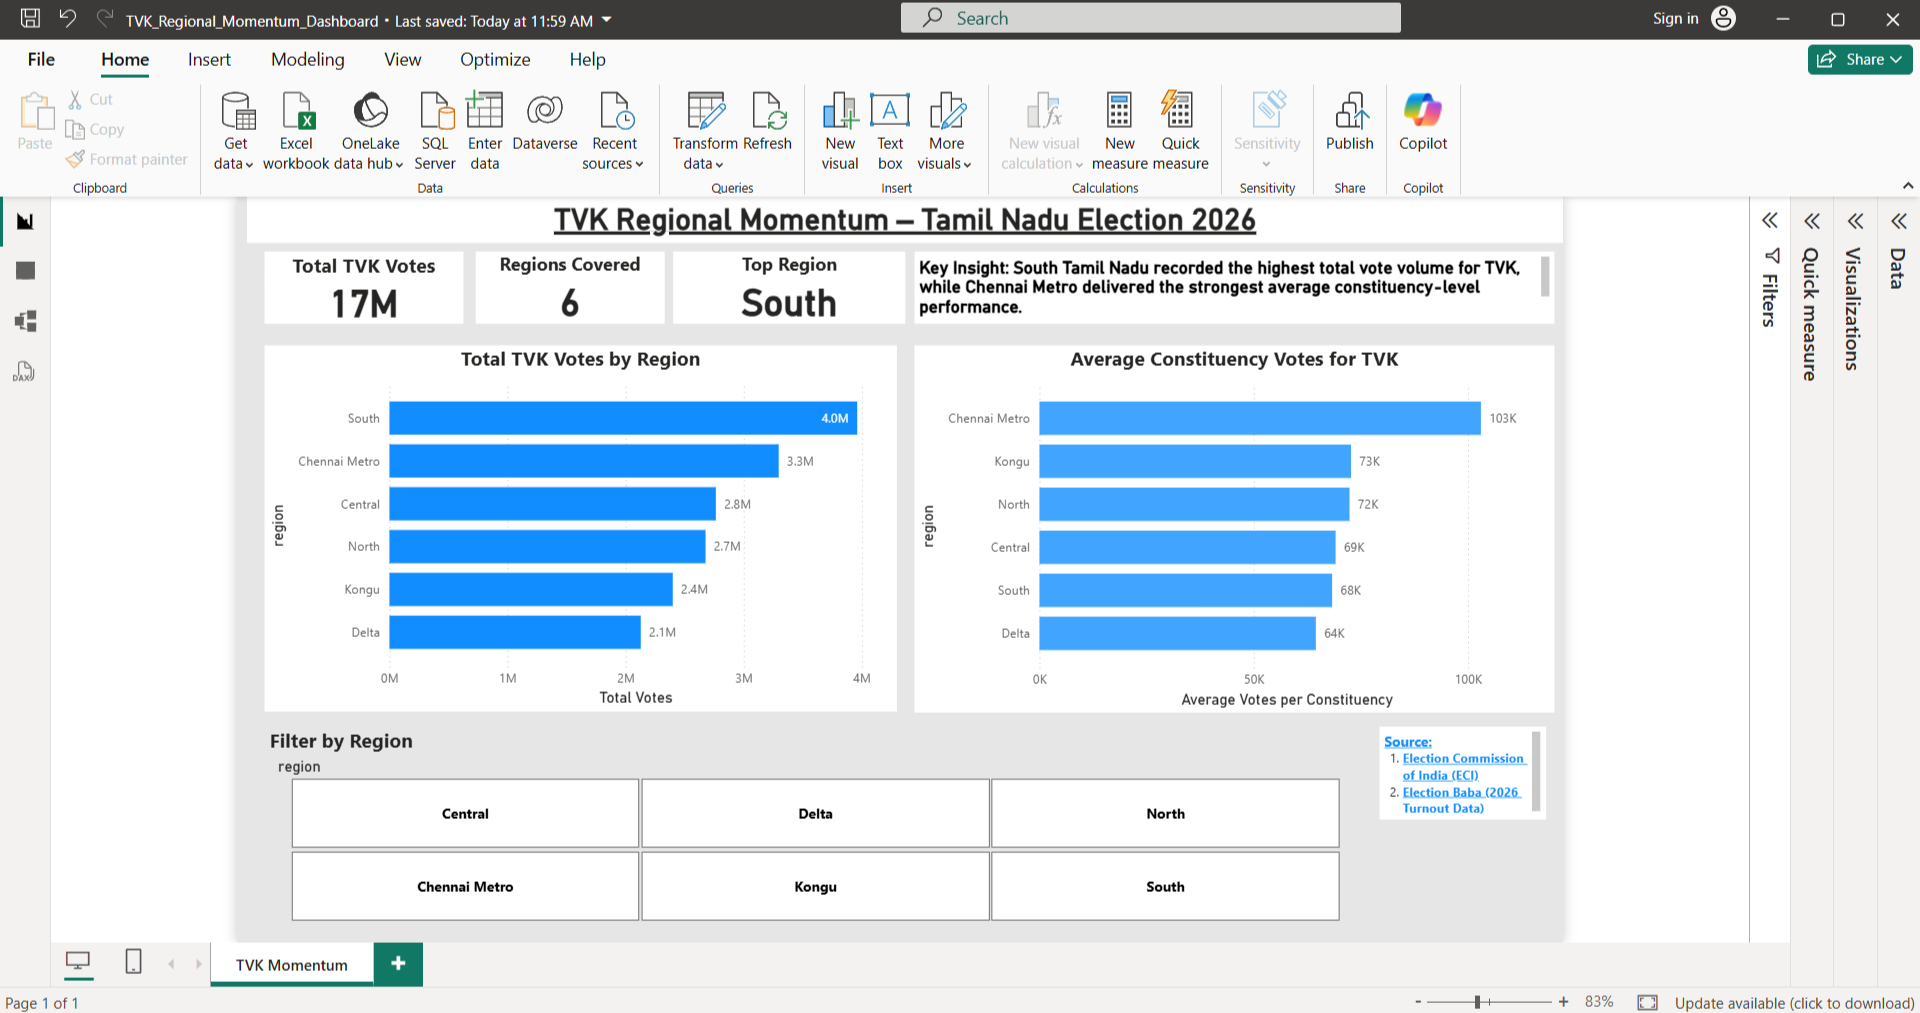

What the dashboard file says about the page in this screenshot:
{"tool":"powerbi","page":{"name":"TVK Momentum","canvas":[1280,720],"ordinal":0},"visuals":[{"type":"textbox","box":[9.7,0,1270.4,44.6],"z":0},{"type":"clusteredBarChart","title":"Total TVK Votes by Region","fields":{"Category":["tn_2026_results.region"],"Y":["Sum(tn_2026_results.votes)"]},"box":[26.5,143.6,610.5,353.5],"z":1000},{"type":"clusteredBarChart","title":"Average Constituency Votes for TVK","fields":{"Category":["tn_2026_results.region"],"Y":["Avg(tn_2026_results.votes)"]},"box":[653.9,143.6,617.7,354.7],"z":2000},{"type":"slicer","title":"Filter by Region","fields":{"Values":["tn_2026_results.region"]},"box":[26.5,511.5,1061.7,194.2],"z":3000},{"type":"card","title":"Total TVK Votes","fields":{"Values":["Sum(tn_2026_results.votes)"]},"box":[26.5,53.1,191.8,70],"z":4000},{"type":"card","title":"Regions Covered","fields":{"Values":["Count(tn_2026_results.region)"]},"box":[230.4,53.1,182.2,70],"z":5000},{"type":"textbox","box":[653.9,53.1,617.7,70],"z":6000},{"type":"textbox","box":[1102.7,511.5,160.5,89.3],"z":7000},{"type":"card","title":"Top Region","fields":{"Values":["Max(tn_2026_results.region)"]},"box":[421,53.1,224.4,70],"z":8000}]}

Visuals, with their boxes on the page's 1280x720 design canvas (x1, y1, x2, y2). These are canvas units, not pixel positions in the 1920x1013 screenshot, which may show the page scaled, cropped or inside an application window:
textbox: Rect(10, 0, 1280, 45)
"Total TVK Votes by Region" clusteredBarChart: Rect(26, 144, 637, 497)
"Average Constituency Votes for TVK" clusteredBarChart: Rect(654, 144, 1272, 498)
"Filter by Region" slicer: Rect(26, 512, 1088, 706)
"Total TVK Votes" card: Rect(26, 53, 218, 123)
"Regions Covered" card: Rect(230, 53, 413, 123)
textbox: Rect(654, 53, 1272, 123)
textbox: Rect(1103, 512, 1263, 601)
"Top Region" card: Rect(421, 53, 645, 123)
